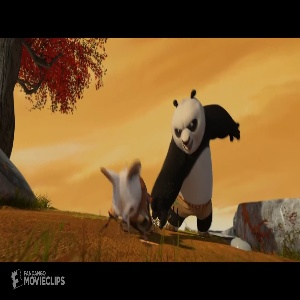po: (150, 87, 244, 237)
shifu: (98, 159, 155, 231)
